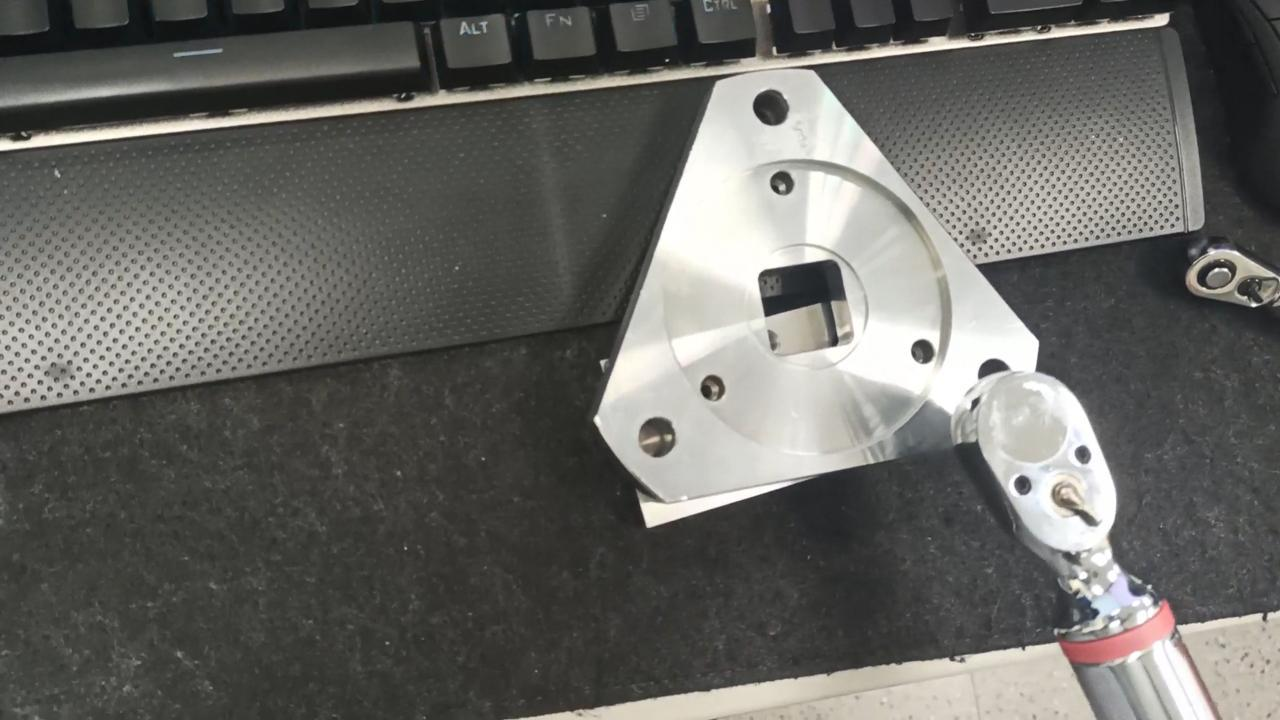Tool: (951, 361, 1178, 635), (1166, 226, 1280, 336)
